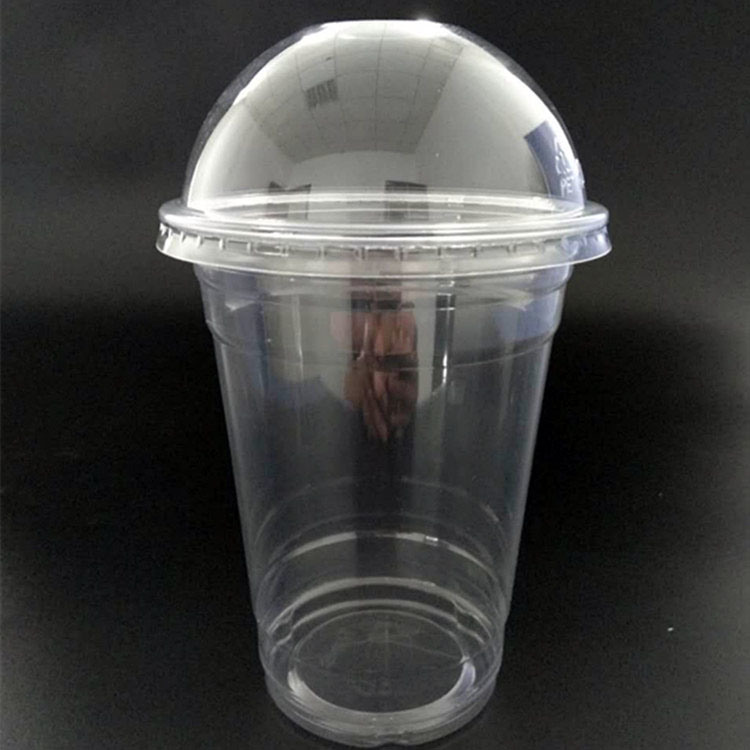plastic_glass: (151, 13, 620, 750)
